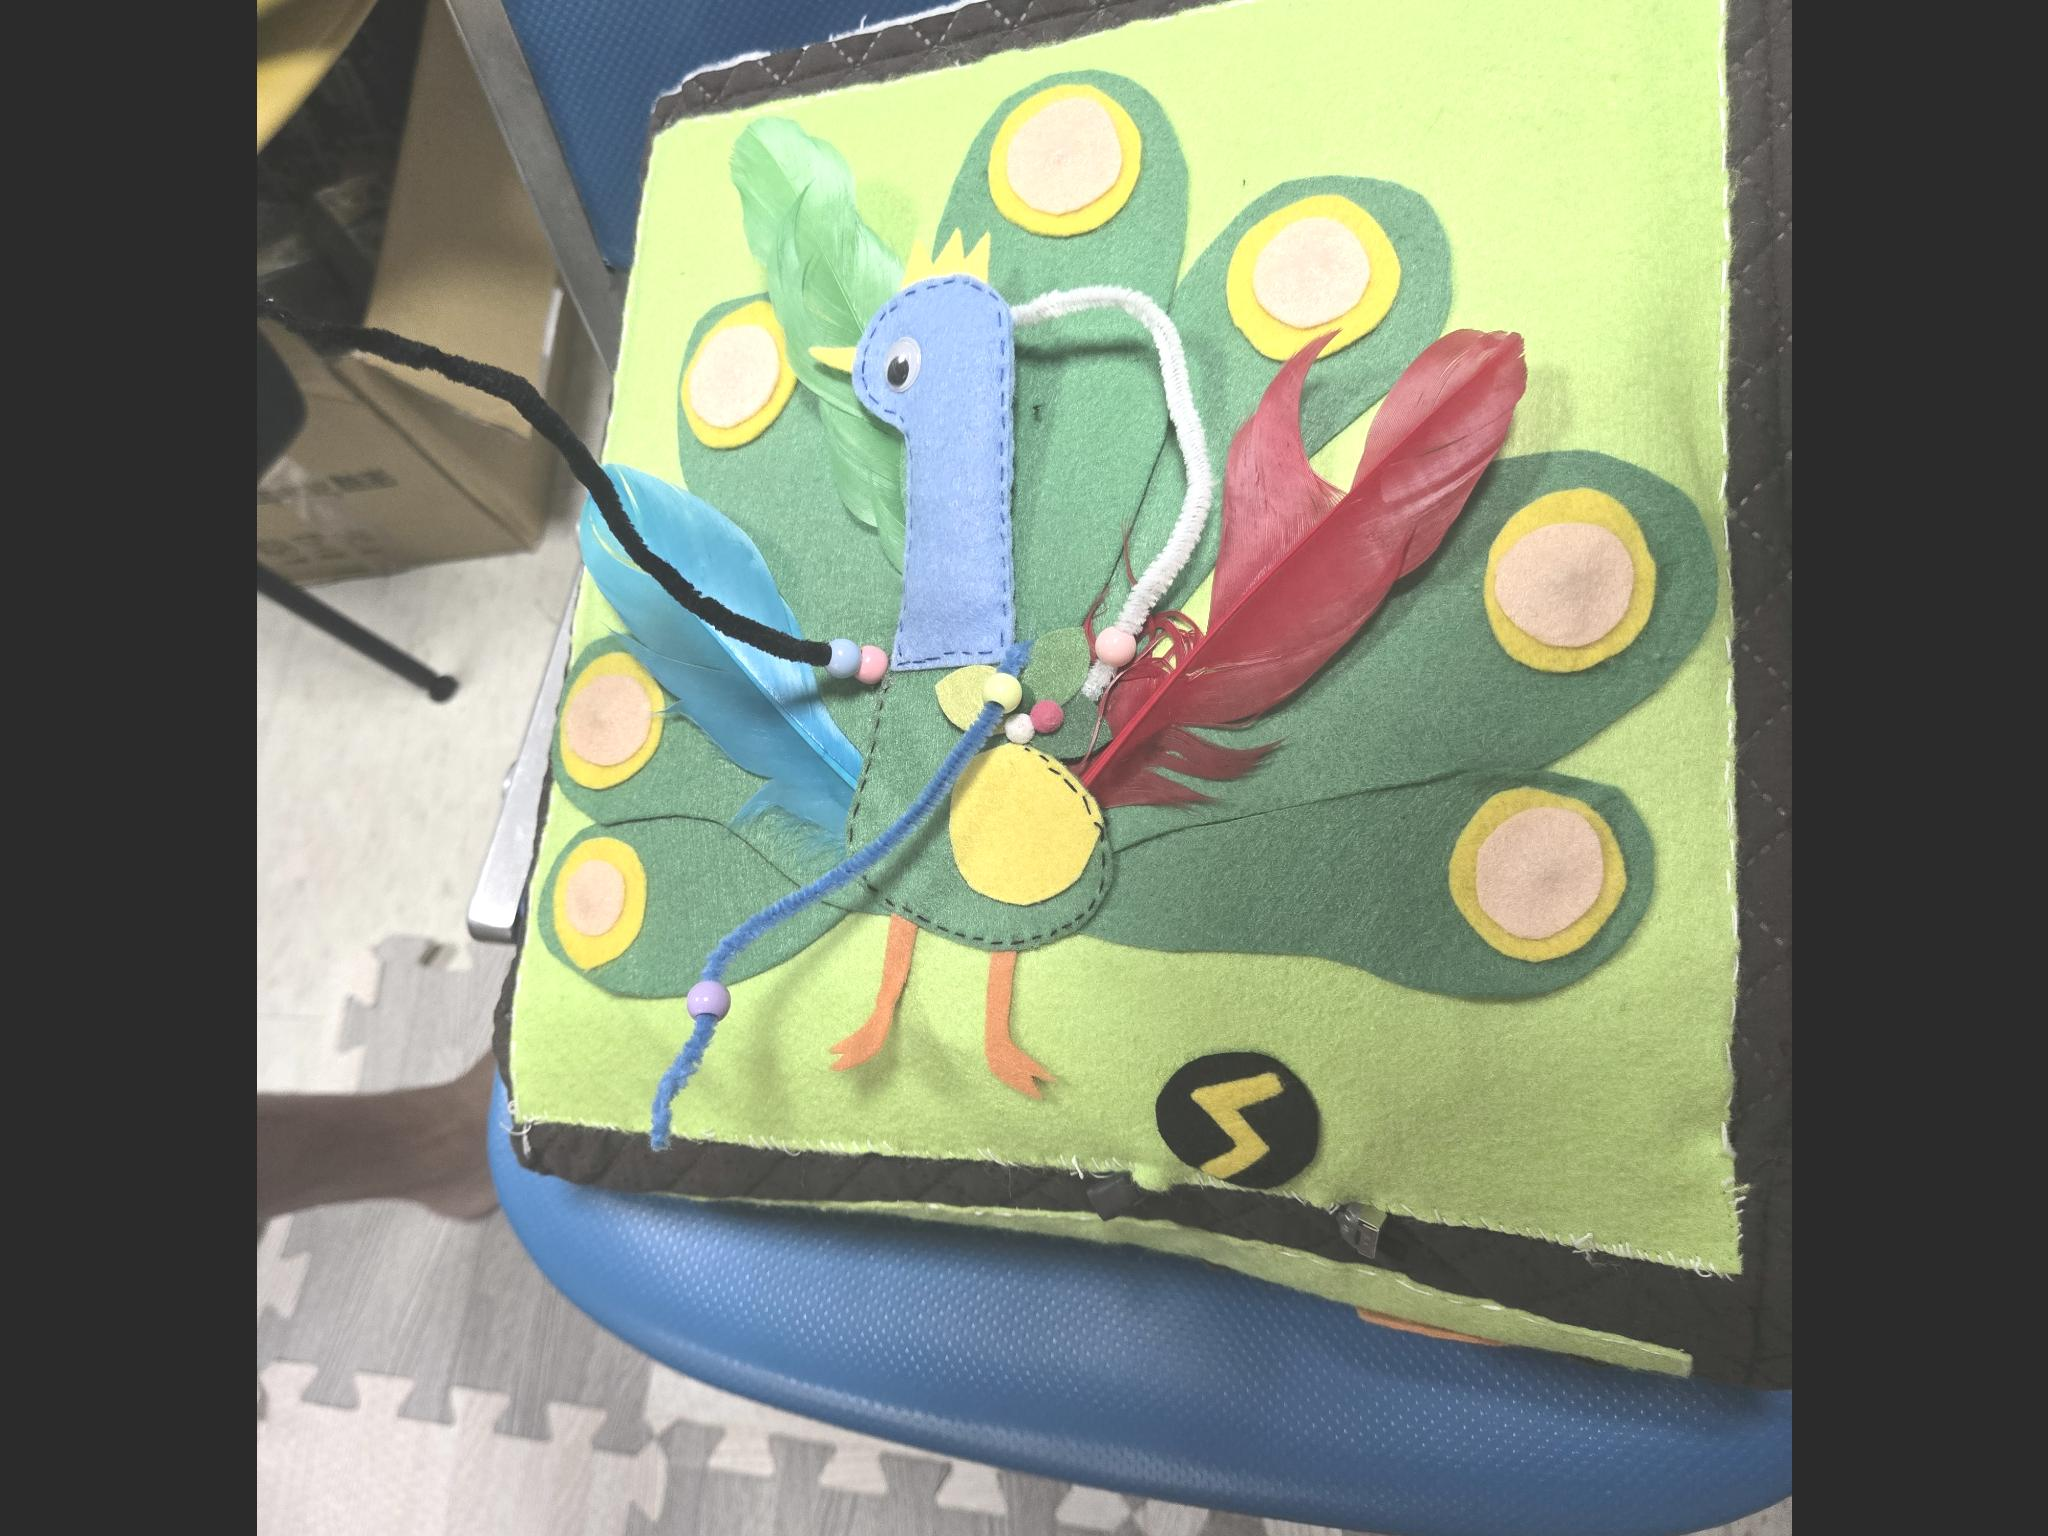bead: (671, 978, 742, 1029), (856, 628, 898, 712), (961, 668, 1029, 720), (1074, 629, 1150, 671), (805, 631, 855, 694)
